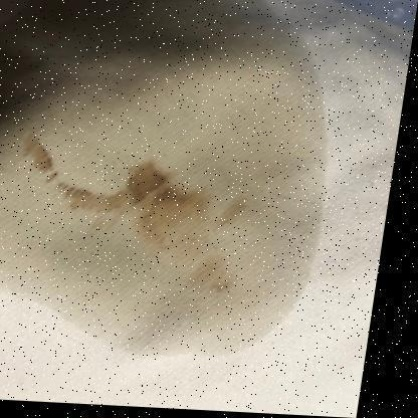coffee: (11, 53, 309, 319)
